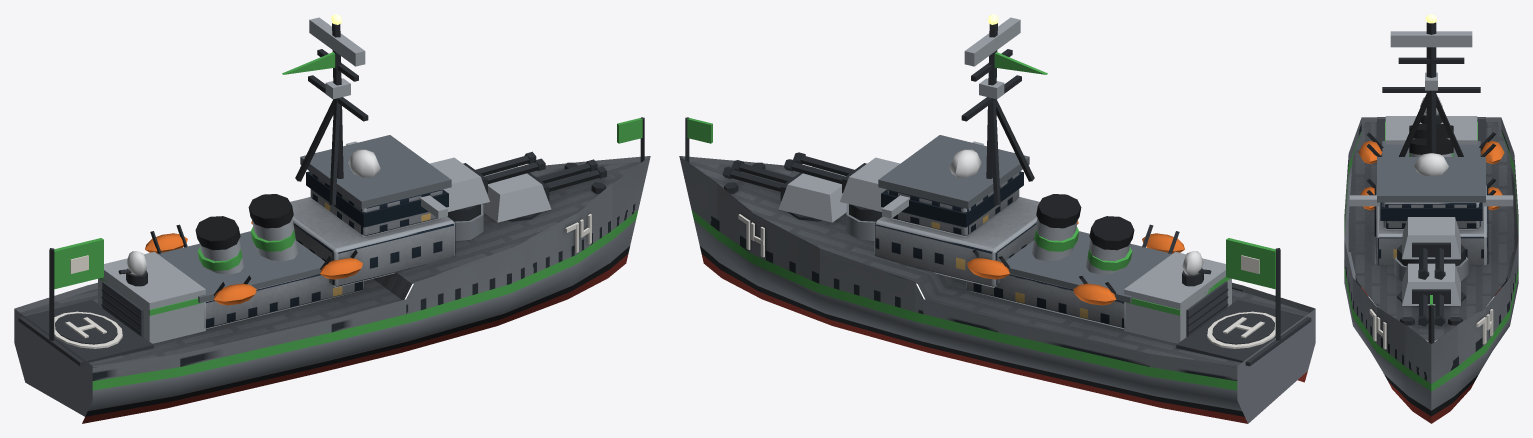
The model's file is destroyer_green.glb.
The picture shows the model from 3 angles, left to right: view 1: azimuth 30°, elevation 25°; view 2: azimuth 150°, elevation 25°; view 3: azimuth 270°, elevation 25°; orthographic projection. The views are drawn at different scales.
Parts seen in each view (by area): view 1: destroyer_green; view 2: destroyer_green; view 3: destroyer_green.
Part boxes in pixels (<box>): destroyer_green: <box>14,14,650,423</box>; destroyer_green: <box>679,14,1315,423</box>; destroyer_green: <box>1344,14,1518,423</box>.
Size of the model in its own units: 0.735 by 0.374 by 0.208.
Materials: 2 (1 with a texture image).
